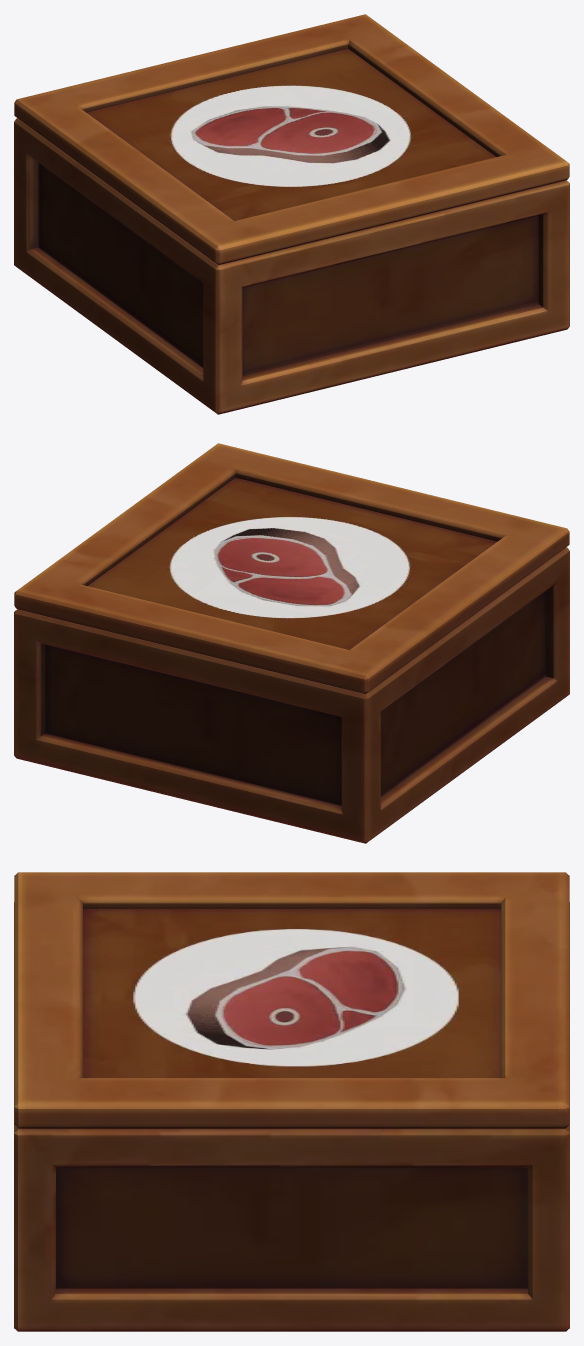
Rendered from meatPattyTable.glb.
The picture shows the model from 3 angles, top to bottom: view 1: azimuth 30°, elevation 25°; view 2: azimuth 150°, elevation 25°; view 3: azimuth 270°, elevation 25°; orthographic projection. The views are drawn at different scales.
Parts seen in each view (by area): view 1: box, cover, desktop; view 2: box, cover, desktop; view 3: box, cover, desktop.
Boxes of the visible parts, box(x1,y1,x2,y2) form: box: box(14, 118, 569, 414); cover: box(14, 14, 569, 264); desktop: box(87, 49, 495, 220); box: box(14, 547, 569, 843); cover: box(14, 443, 569, 693); desktop: box(88, 478, 496, 649); box: box(14, 902, 569, 1331); cover: box(14, 872, 569, 1128); desktop: box(83, 909, 500, 1077).
Bounding box in the file's own units: 2 × 0.9056 × 2.
3 materials, 3 textured.
